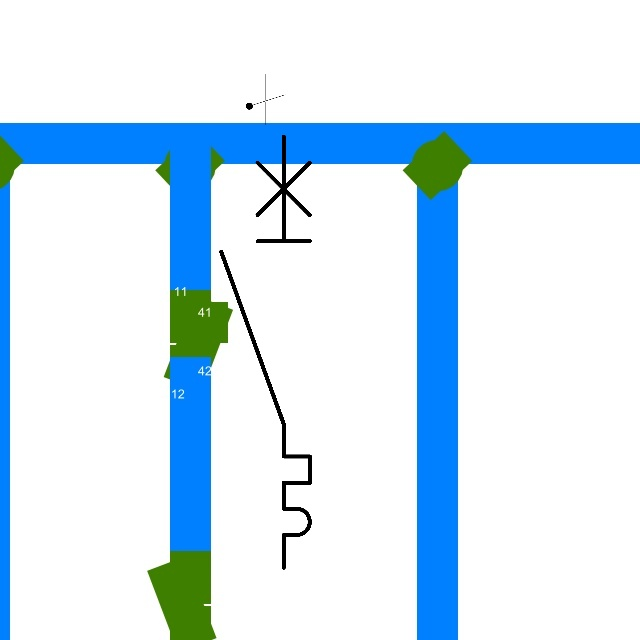interruptor_termomagnetico: (210, 125, 321, 579)
